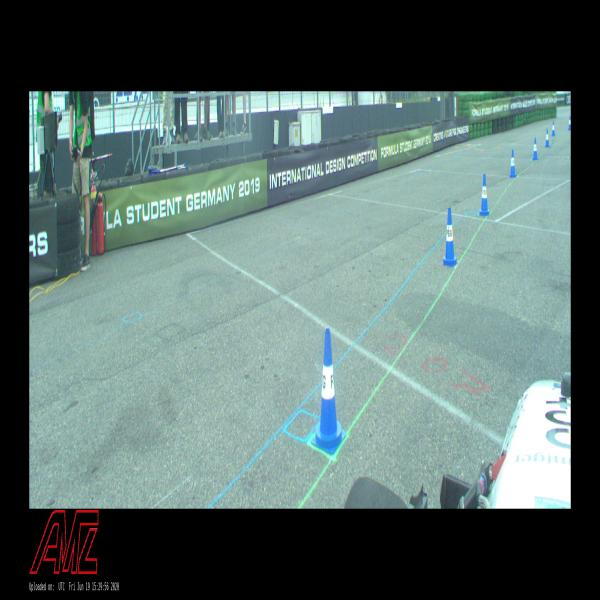blue_cone: (312, 329, 346, 454), (442, 208, 458, 267), (479, 174, 489, 215), (509, 150, 516, 177), (532, 138, 538, 160), (545, 129, 549, 147), (551, 121, 555, 136), (568, 116, 571, 130)
